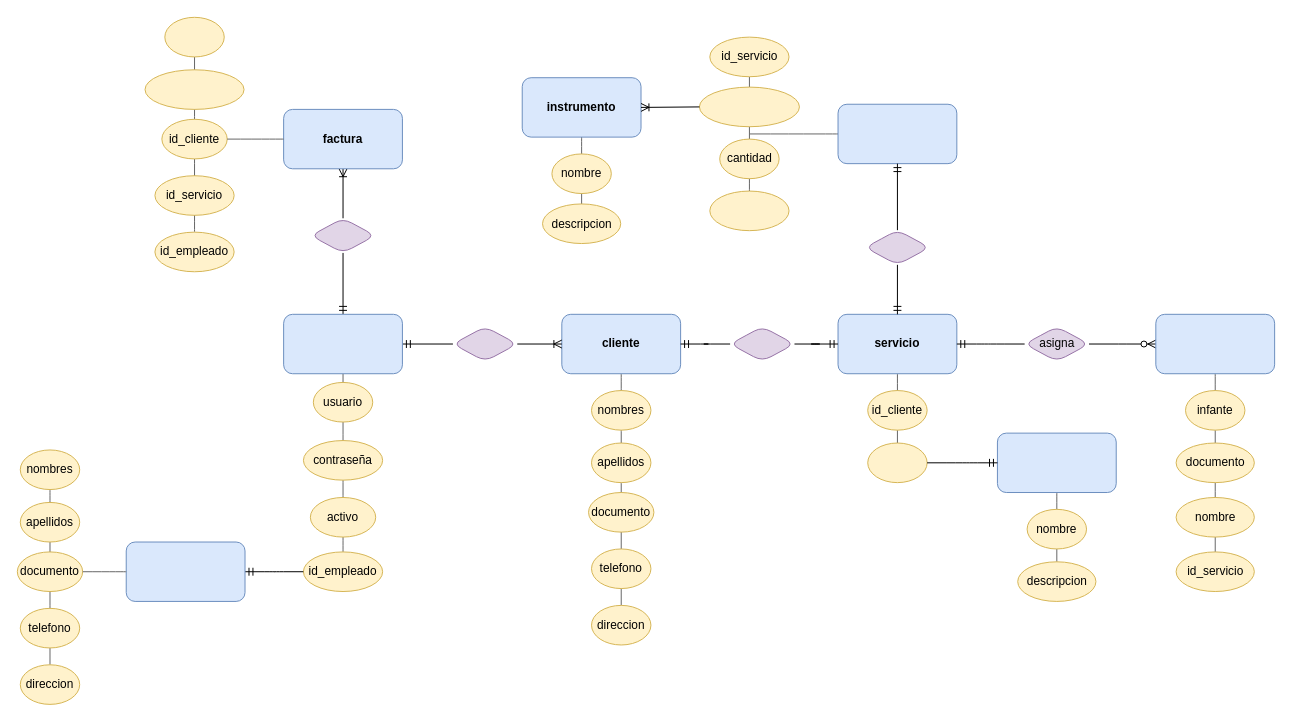
This 1292x722 diagram has some shape labels left out. The shapes that lost their labels are listed below. From the top down, each one's centre as x and y in pixels, then its label:
the point at 194,36: total
the point at 194,89: fecha_emision
the point at 748,106: id_instrumento
the point at 897,133: inventario
the point at 749,210: capacidad
the point at 342,235: genera
the point at 897,247: obtiene
the point at 342,343: administrador
the point at 484,343: registra
the point at 761,343: solicita
the point at 1215,343: acompañantes
the point at 897,462: id_plan
the point at 1056,462: plan
the point at 185,571: empleado
